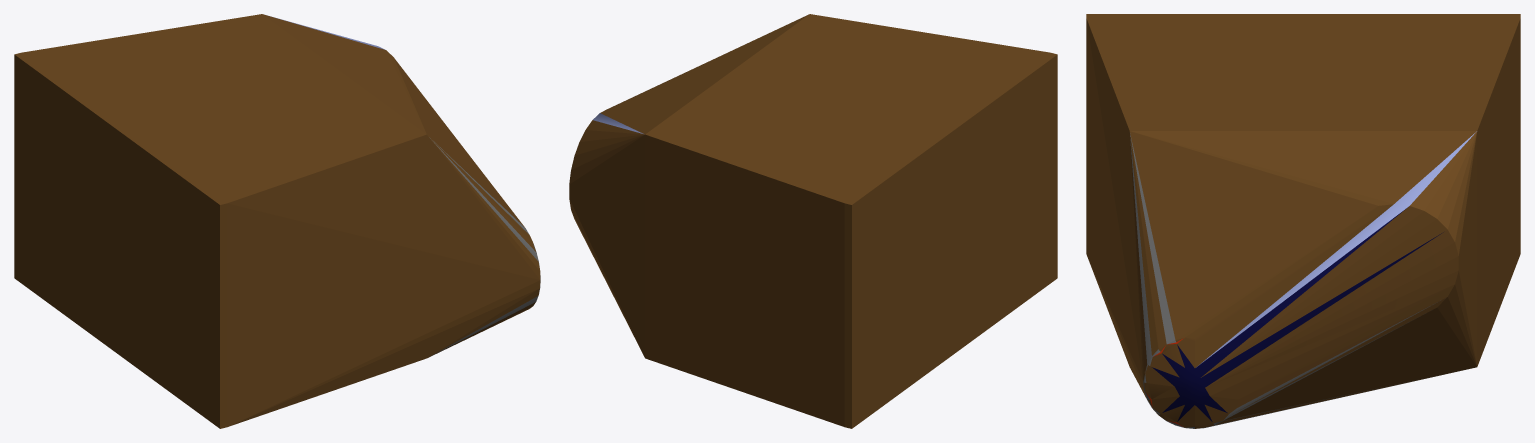
The model's file is rpo_suite_collision.obj.
3 renders of one model, left to right at view 1: azimuth 30°, elevation 25°; view 2: azimuth 150°, elevation 25°; view 3: azimuth 270°, elevation 25°, orthographic. The views are drawn at different scales.
Visible parts, largest first — view 1: ModP1tical_Bench_SM_PickNik_-00.001; view 2: ModP1tical_Bench_SM_PickNik_-00.001; view 3: ModP1tical_Bench_SM_PickNik_-00.001.
Part boxes in pixels (bbox=[...]): ModP1tical_Bench_SM_PickNik_-00.001: bbox=[14, 14, 540, 428]; ModP1tical_Bench_SM_PickNik_-00.001: bbox=[569, 14, 1057, 428]; ModP1tical_Bench_SM_PickNik_-00.001: bbox=[1086, 14, 1520, 428].
Bounding box in the file's own units: 0.2555 × 0.1524 × 0.254.
